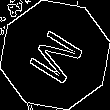M_SE: (22, 22, 88, 88)
